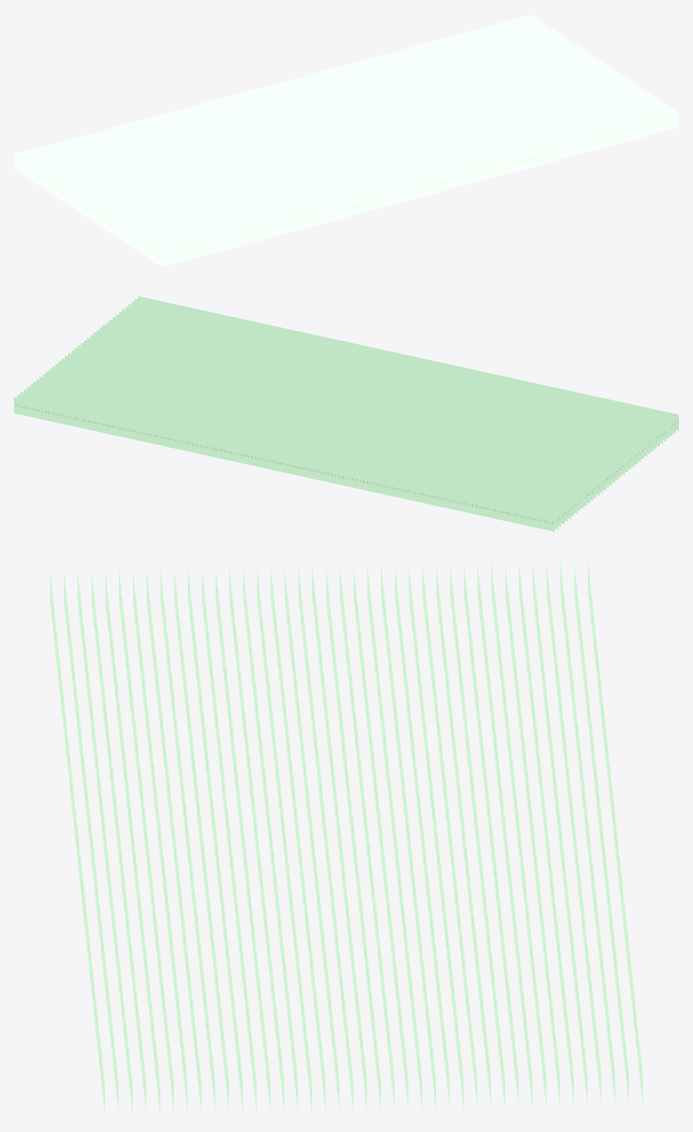
File: Soja.glb
The picture shows the model from 3 angles, top to bottom: view 1: azimuth 30°, elevation 25°; view 2: azimuth 150°, elevation 25°; view 3: azimuth 270°, elevation 25°; orthographic projection. The views are drawn at different scales.
Visible parts, largest first — view 1: Soja; view 2: Soja; view 3: Soja.
Boxes of the visible parts, x1,y1,x2,y2 form: Soja: [14, 14, 678, 267]; Soja: [14, 296, 678, 531]; Soja: [50, 562, 642, 1115].
Size of the model in its own units: 79.45 by 2.29 by 37.91.
Materials: 1 (1 with a texture image).
